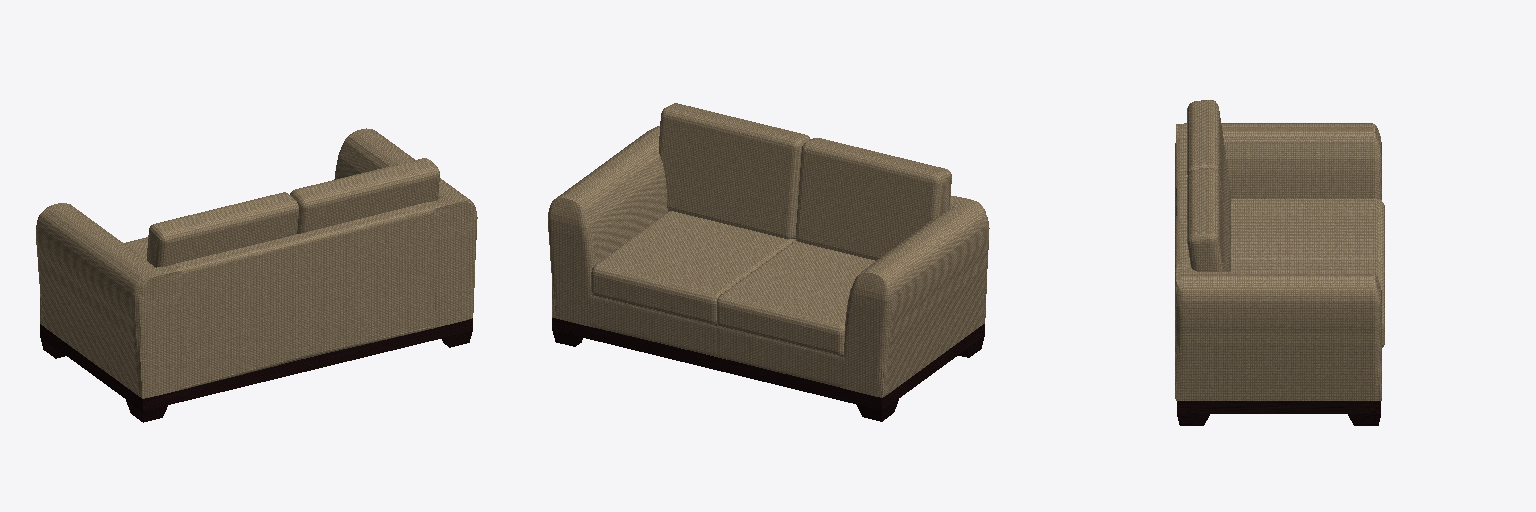
3 renders of one model, left to right at view 1: azimuth 30°, elevation 25°; view 2: azimuth 150°, elevation 25°; view 3: azimuth 270°, elevation 25°, orthographic.
Parts seen in each view (by area): view 1: main, base; view 2: main, base; view 3: main, base.
Part boxes in pixels (left/top/right/bottom): main: left=36, top=128, right=477, bottom=398; base: left=40, top=318, right=472, bottom=422; main: left=548, top=103, right=989, bottom=397; base: left=552, top=318, right=984, bottom=421; main: left=1175, top=100, right=1384, bottom=400; base: left=1177, top=401, right=1380, bottom=425.
Size of the model in its own units: 180 by 90 by 95.01.
Materials: 2 (2 with a texture image).